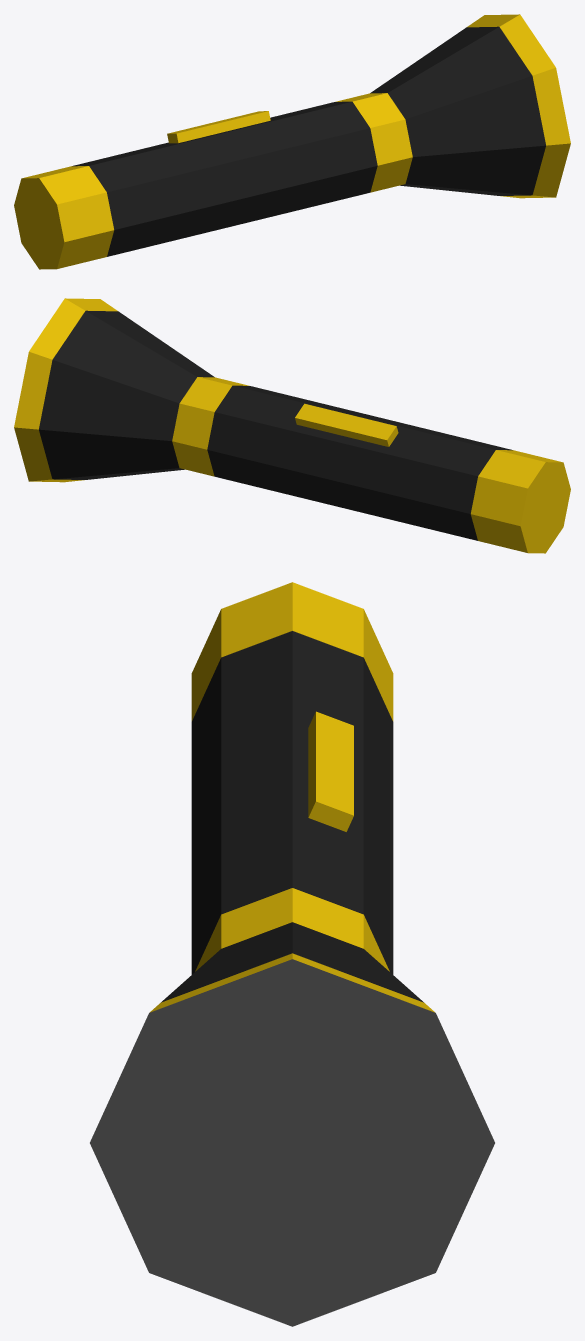
The model's file is Flashlight .fbx.
3 views of the same model, one above another, from view 1: azimuth 30°, elevation 25°; view 2: azimuth 150°, elevation 25°; view 3: azimuth 270°, elevation 25° (orthographic). The views are drawn at different scales.
Parts seen in each view (by area): view 1: Cube; view 2: Cube; view 3: Cube.
Part boxes in pixels (left/top/right/bottom): Cube: left=14, top=14, right=570, bottom=269; Cube: left=14, top=298, right=570, bottom=553; Cube: left=90, top=582, right=494, bottom=1326.
Bounding box in the file's own units: 1102 × 402 × 402.
